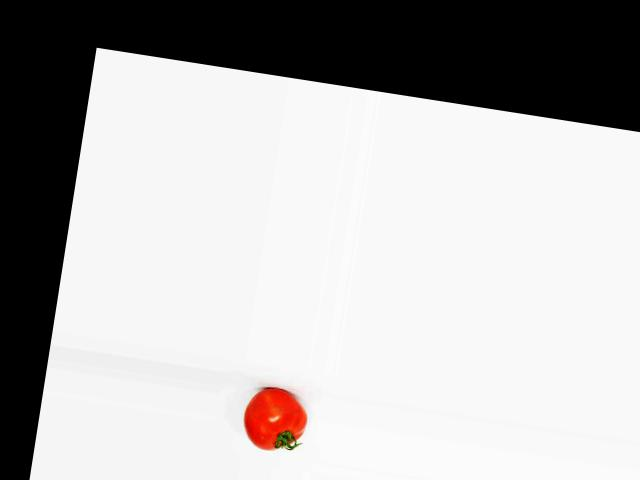tomato: (239, 383, 310, 456)
